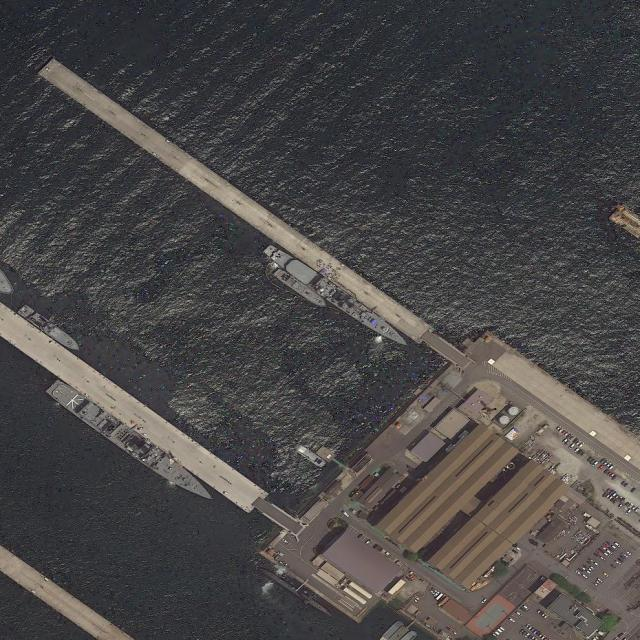Destroyer: (43, 373, 219, 511), (260, 242, 413, 352)
Dock: (39, 55, 463, 362)
Other Warship: (273, 268, 330, 311)
Submarine: (257, 564, 333, 618)
